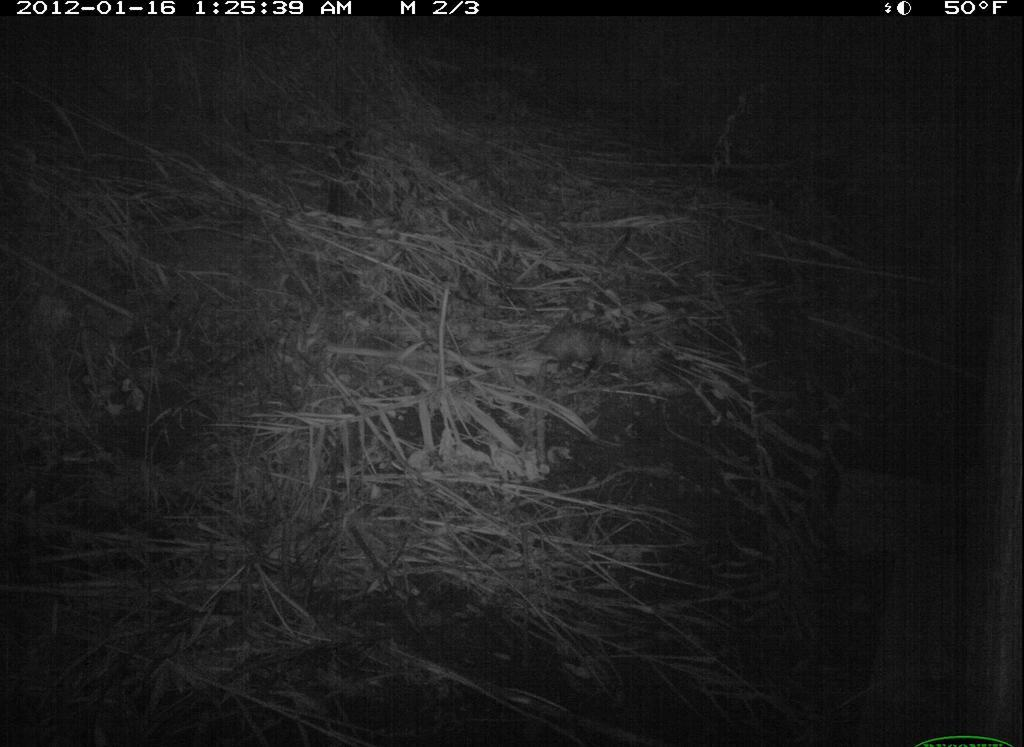opossum: (532, 310, 644, 397)
